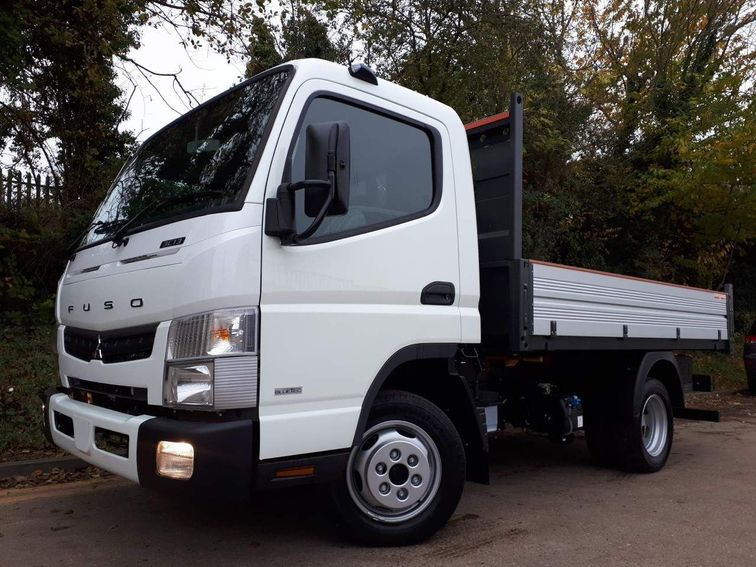Semi: (47, 57, 734, 545)
